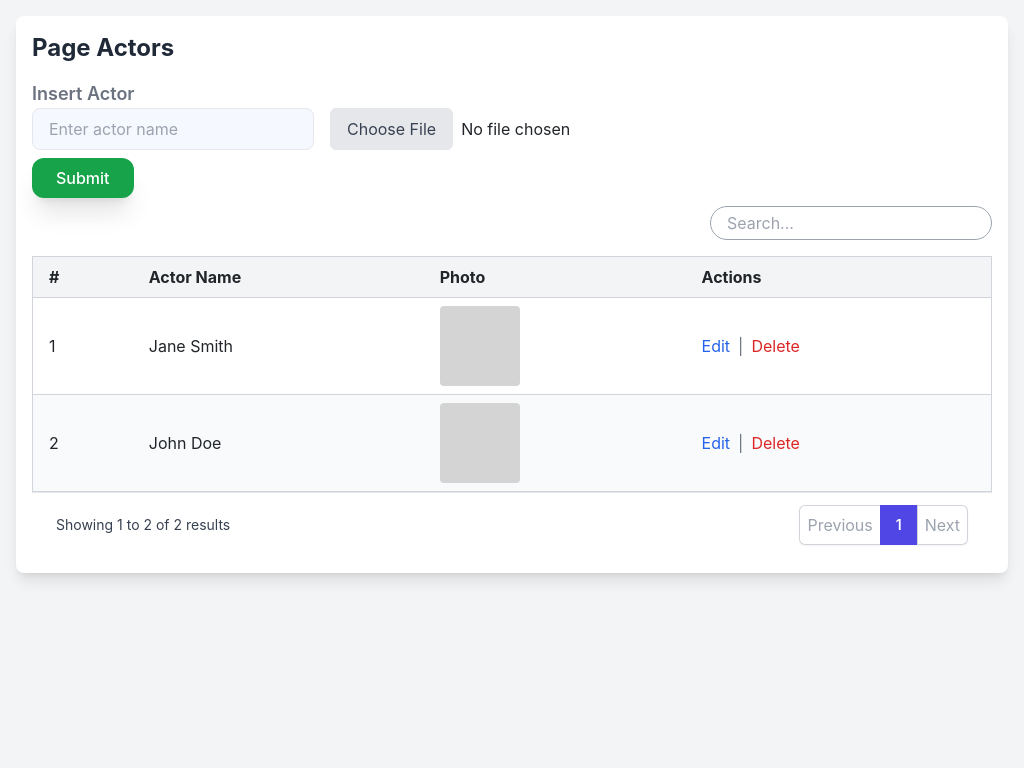
Test case: Actors Component › should filter actors based on search query
Expected: the text "John Doe" is shown, [133,394,424,492]
Expected: the text "Jane Smith" is shown, [133,298,424,394]
Simulate typing in the search box
Type "John" into the field with placeholder "Search..." at (851, 223), box [710,206,992,240]
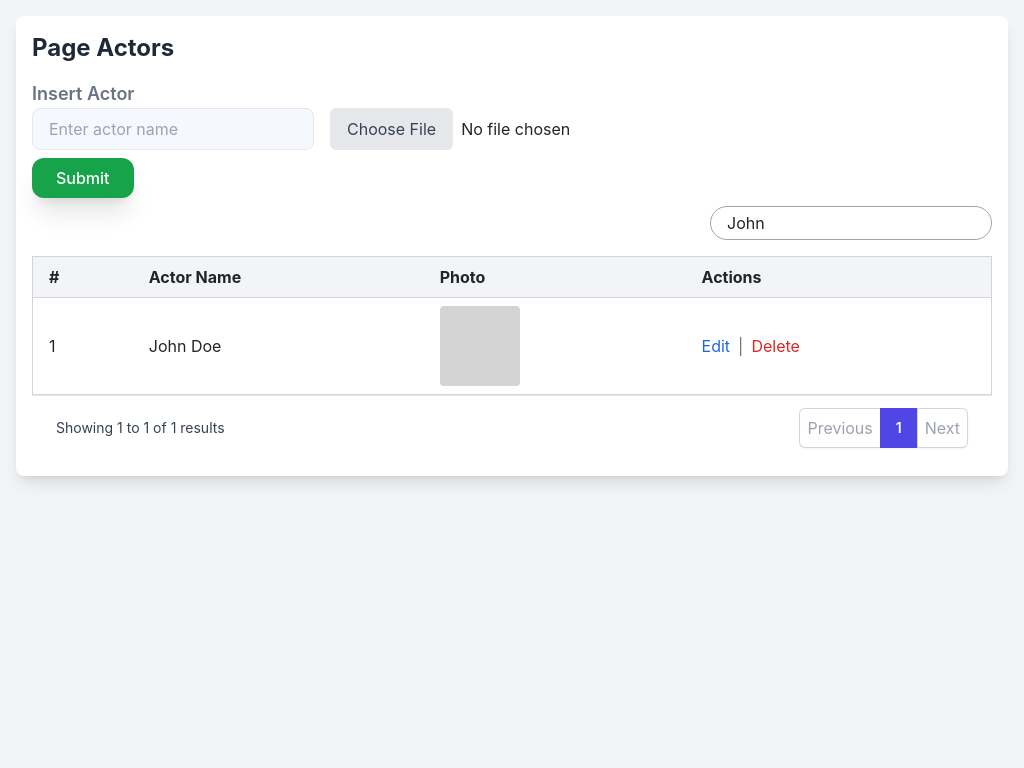
Expected: the text "John Doe" is shown, [133,298,424,394]
Expected: the text "Jane Smith" is gone
